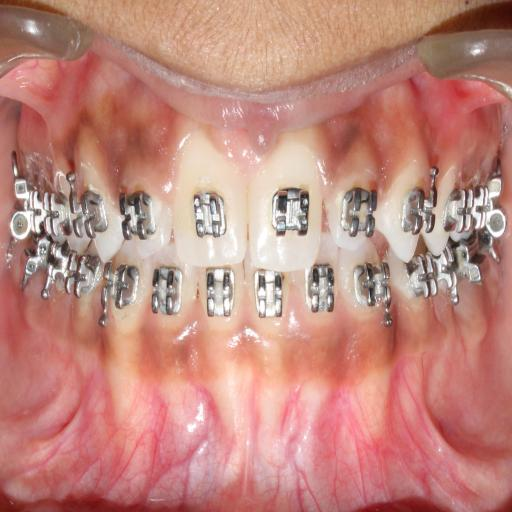correct_brace: (268, 179, 314, 236), (341, 183, 380, 245), (71, 186, 110, 244), (404, 174, 437, 242), (190, 184, 228, 236), (118, 186, 152, 241)
incorrect_brace: (329, 149, 380, 252), (118, 161, 170, 261)
